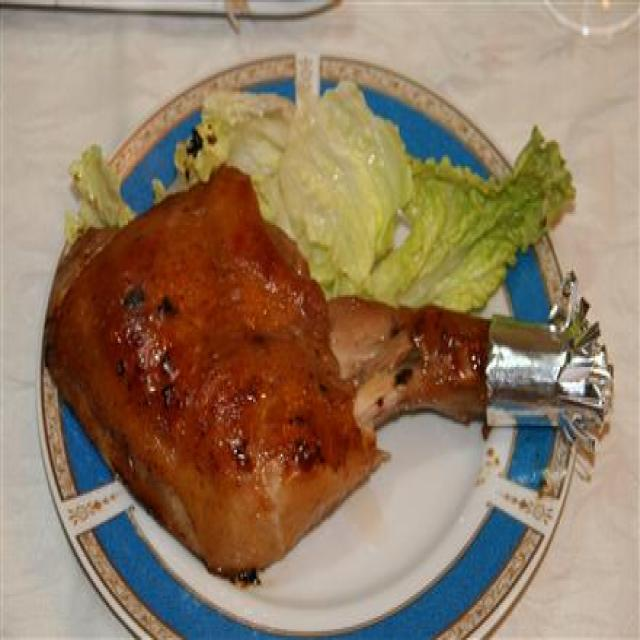鸡肉料理 含炸鸡: (35, 332, 569, 640)
